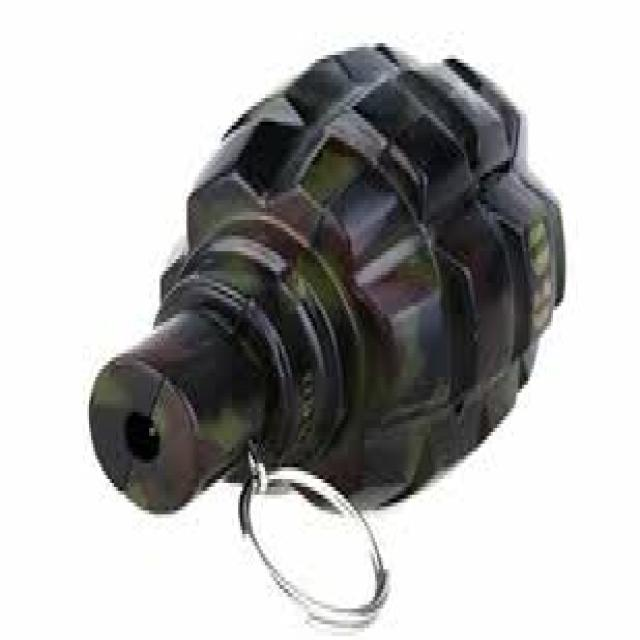grenade: (82, 33, 577, 640)
